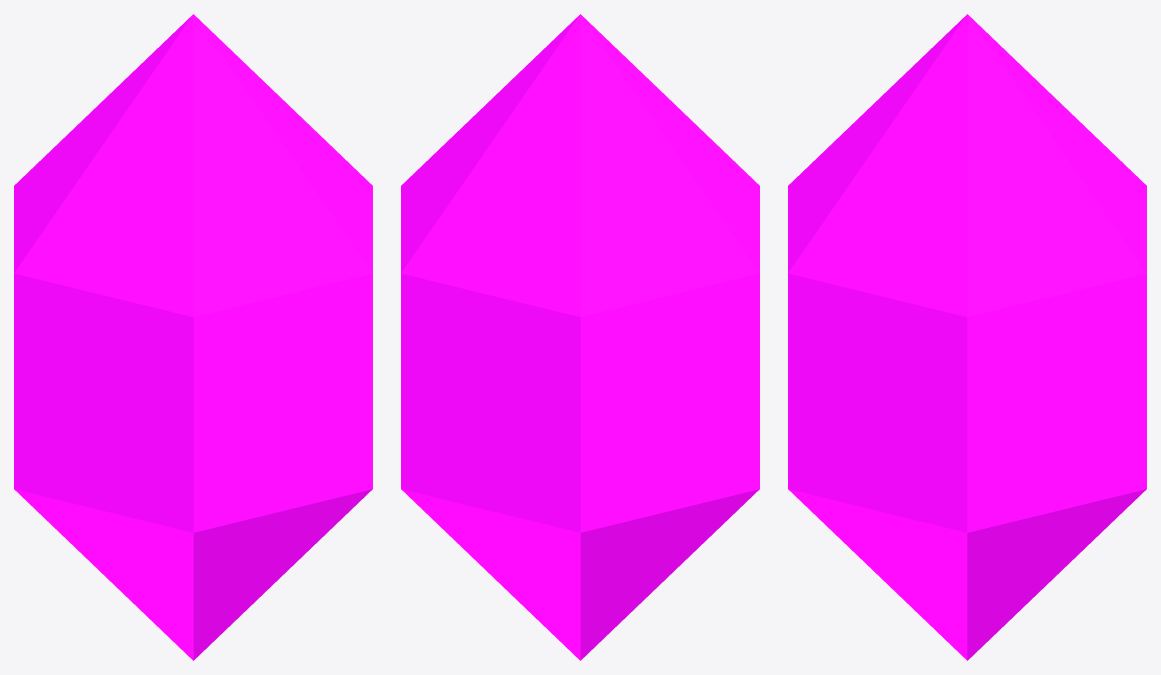
File: Crystal.fbx
3 views of the same model, side by side, from view 1: azimuth 30°, elevation 25°; view 2: azimuth 150°, elevation 25°; view 3: azimuth 270°, elevation 25° (orthographic).
Parts seen in each view (by area): view 1: Cylinder001; view 2: Cylinder001; view 3: Cylinder001.
Boxes of the visible parts, bbox=[...] form: Cylinder001: bbox=[14, 14, 372, 660]; Cylinder001: bbox=[401, 14, 759, 660]; Cylinder001: bbox=[788, 14, 1146, 660].
Size of the model in its own units: 60 by 103 by 51.96.
